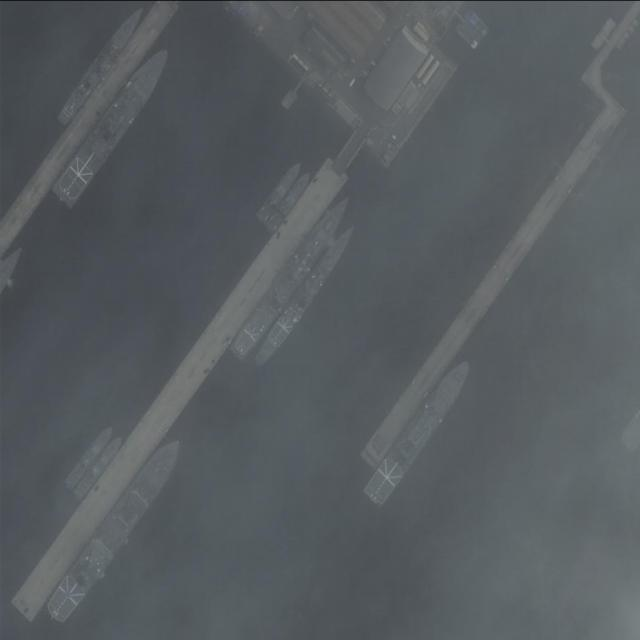Auxiliary Ships: (41, 435, 186, 625), (359, 354, 478, 506)
Destroyer: (223, 189, 356, 363), (47, 41, 180, 212), (251, 218, 361, 367), (54, 3, 149, 128)
Dock: (13, 134, 360, 623), (361, 107, 613, 471)
Other Warship: (73, 434, 127, 502), (63, 423, 116, 490), (263, 169, 315, 235), (255, 158, 306, 224)
